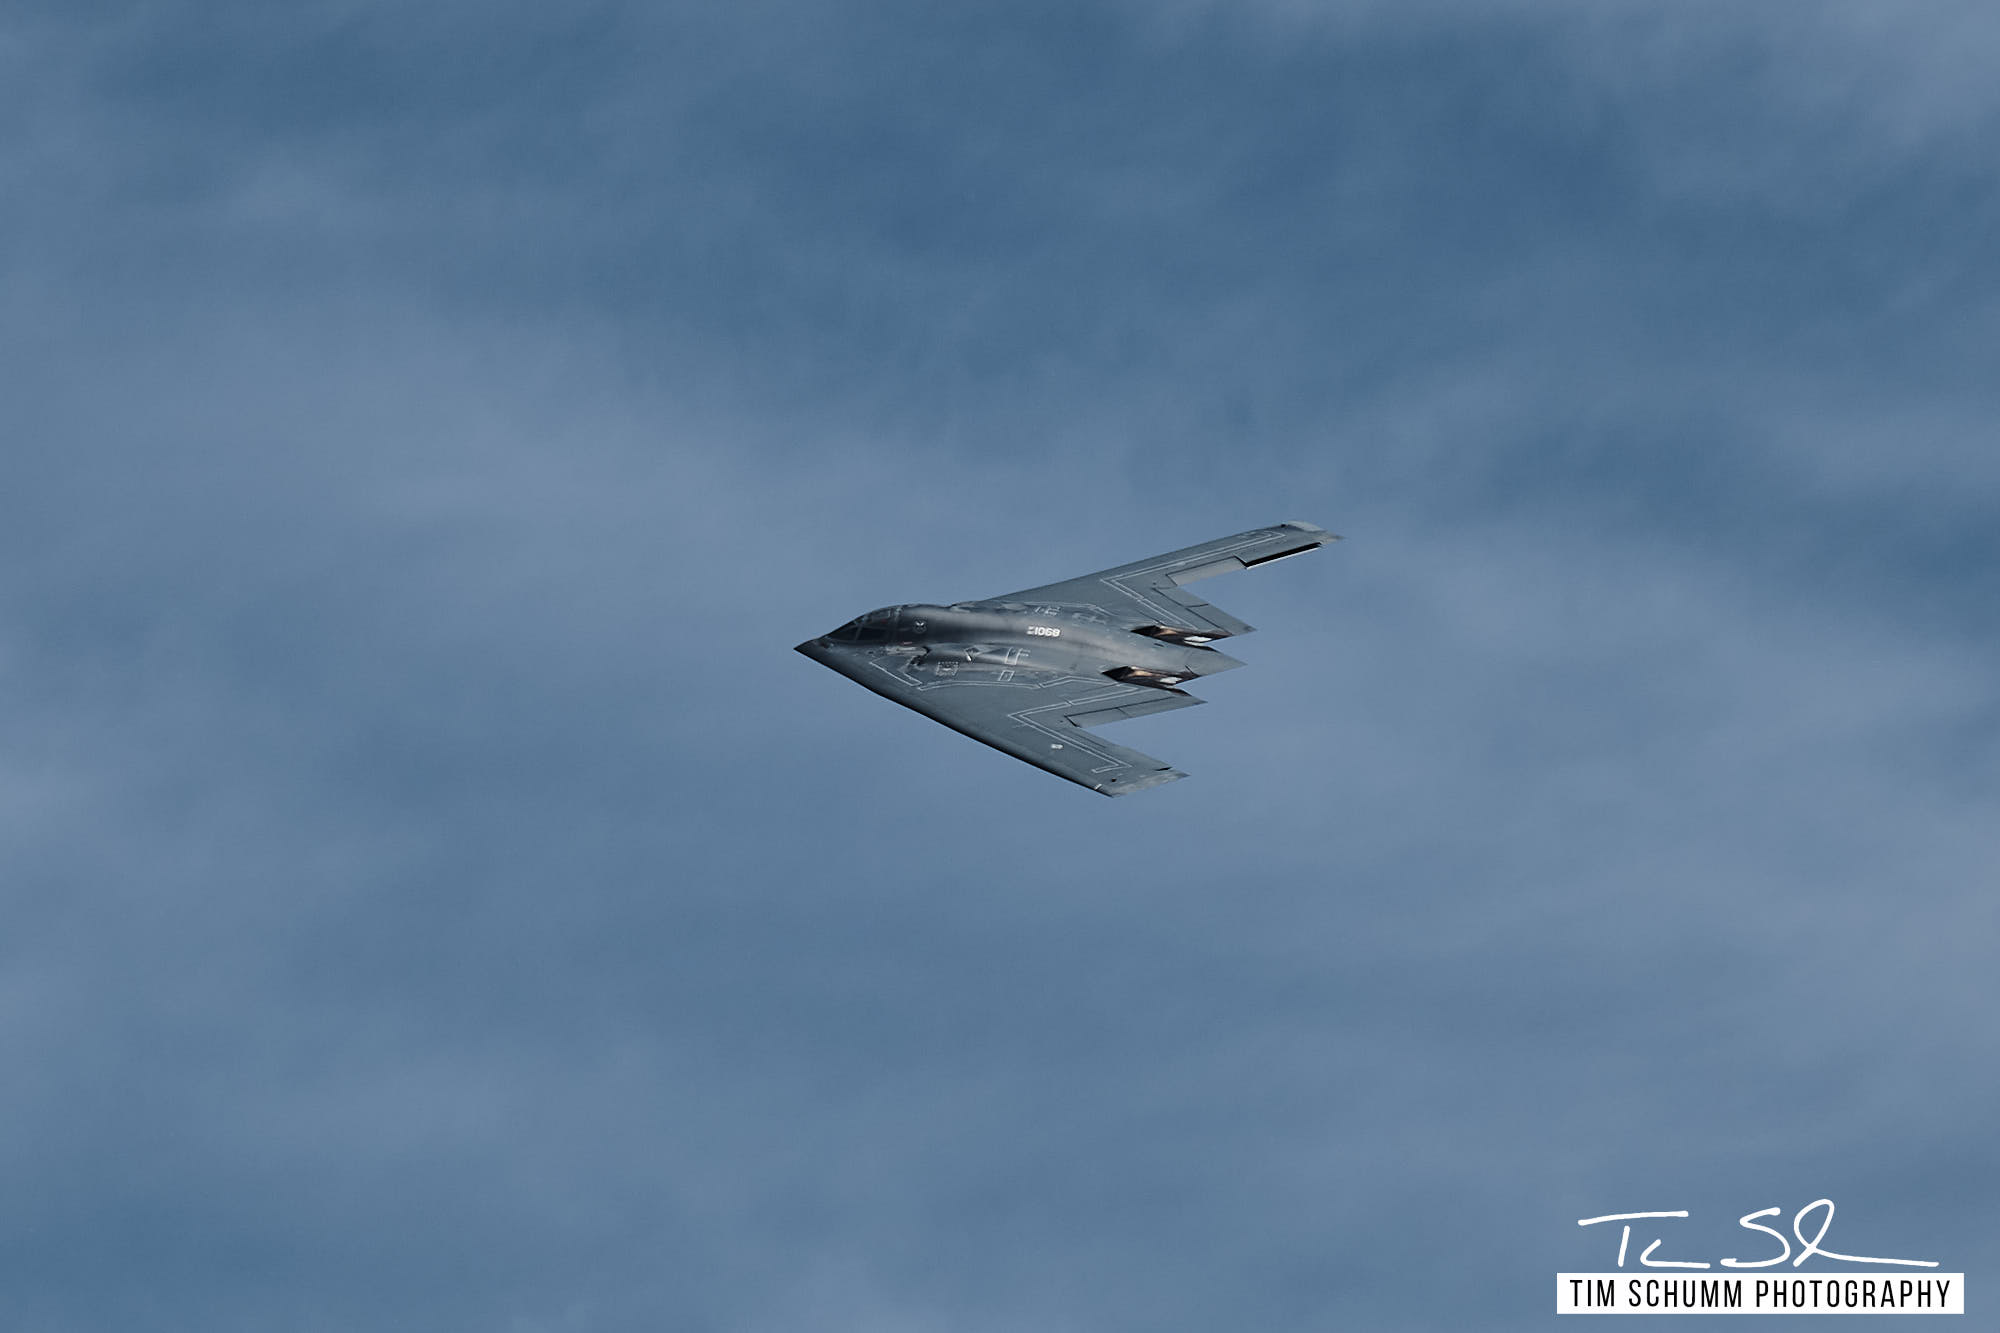B2: (793, 521, 1349, 799)
